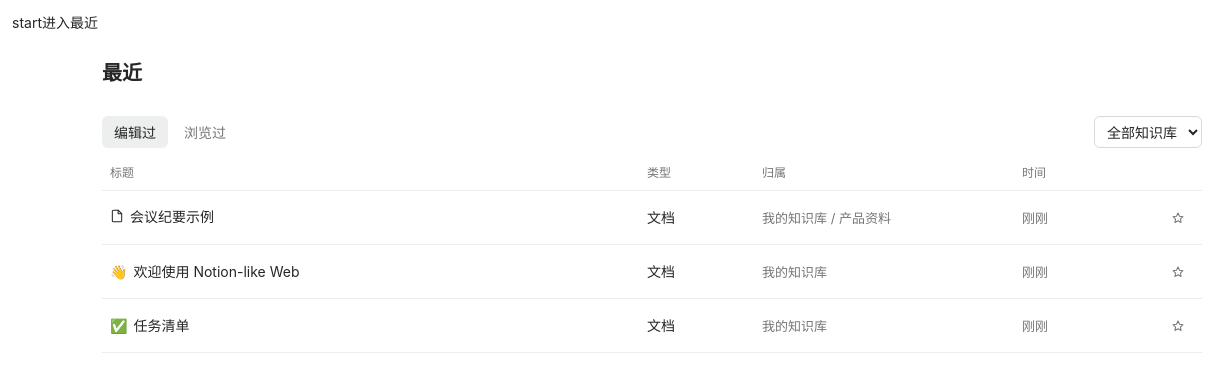
RecentPage › 显示最近编辑列表并可切换最近浏览
Check: the button "👋 欢迎使用 Notion-like Web" is shown, box [110,261,300,281]
Click the tab "浏览过". click: point(205, 132)
box: [172,116,238,148]
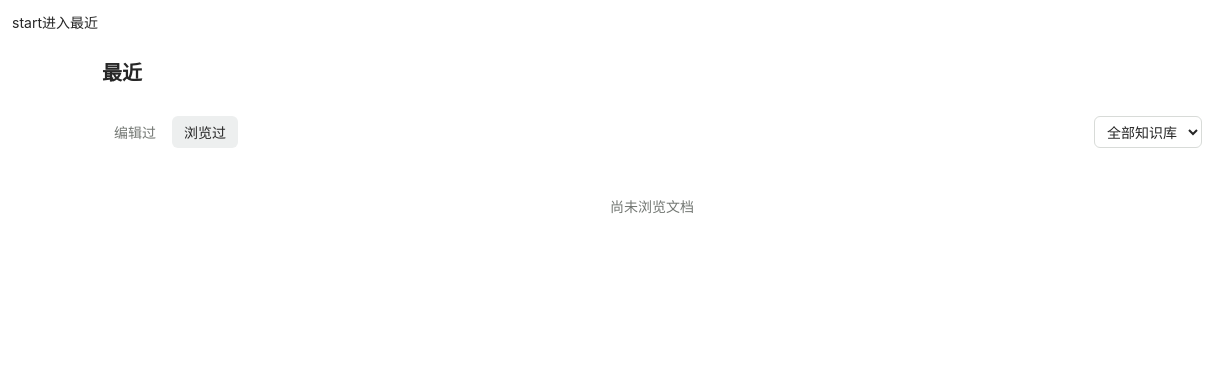
Check: the text "尚未浏览文档" is shown, box [610,198,694,215]
